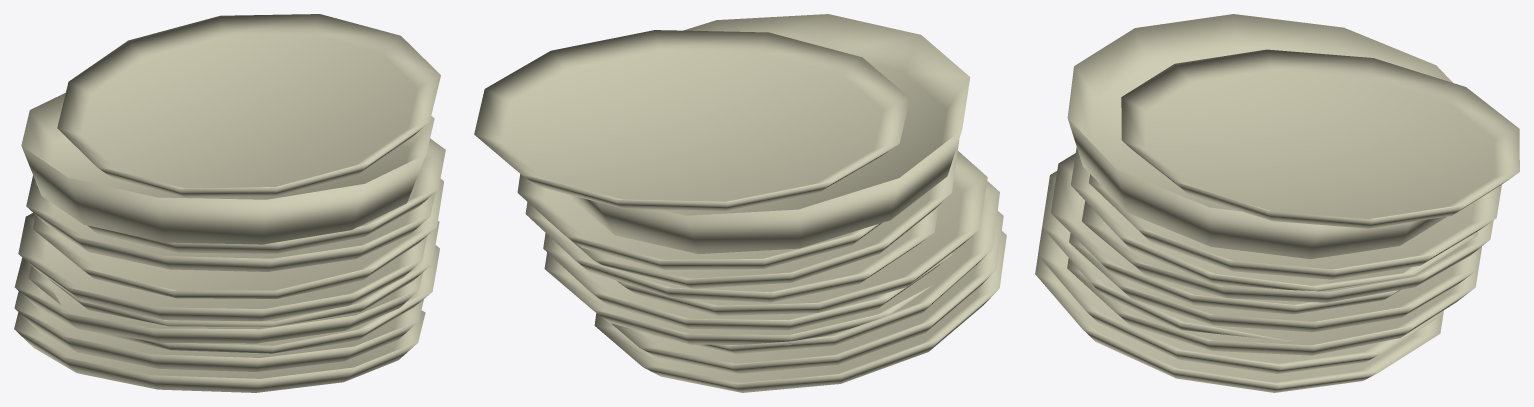
File: plates.glb
3 renders of one model, left to right at view 1: azimuth 30°, elevation 25°; view 2: azimuth 150°, elevation 25°; view 3: azimuth 270°, elevation 25°, orthographic.
Visible parts, largest first — view 1: Cylinder.044; view 2: Cylinder.044; view 3: Cylinder.044.
Boxes of the visible parts, <box> form: Cylinder.044: <box>14,14,445,392</box>; Cylinder.044: <box>474,14,1006,392</box>; Cylinder.044: <box>1035,14,1519,392</box>.
Size of the model in its own units: 0.4493 by 0.2376 by 0.4399.
